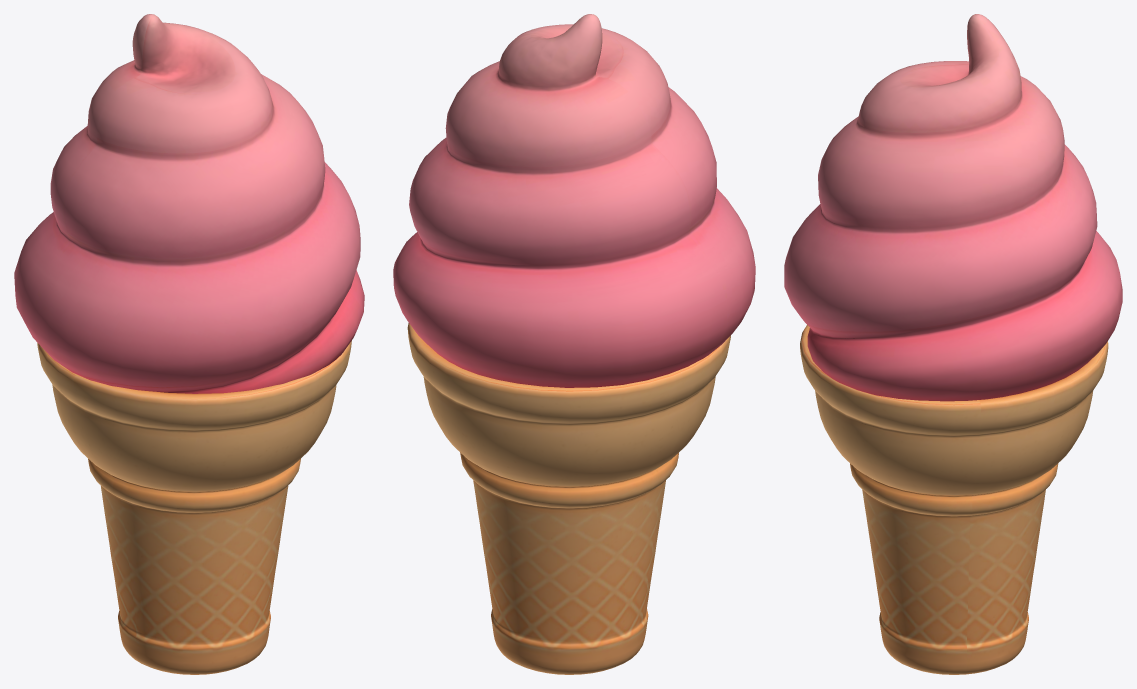
The model's file is icecream.glb.
3 renders of one model, left to right at view 1: azimuth 30°, elevation 25°; view 2: azimuth 150°, elevation 25°; view 3: azimuth 270°, elevation 25°, orthographic. The views are drawn at different scales.
Visible parts, largest first — view 1: icecream; view 2: icecream; view 3: icecream.
Boxes of the visible parts, x1,y1,x2,y2 form: icecream: [14, 14, 364, 674]; icecream: [393, 14, 755, 674]; icecream: [784, 14, 1122, 674].
Bounding box in the file's own units: 0.1007 × 0.2001 × 0.0991.
1 material, 1 textured.
